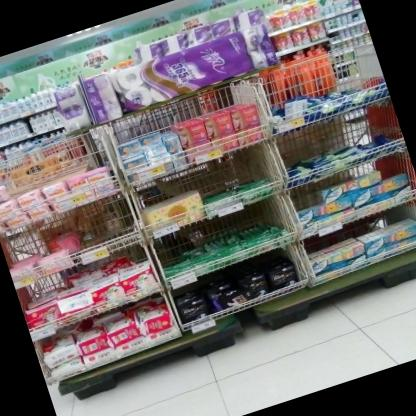empty_space: (77, 199, 136, 254)
